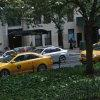Car: (2, 40, 70, 78)
